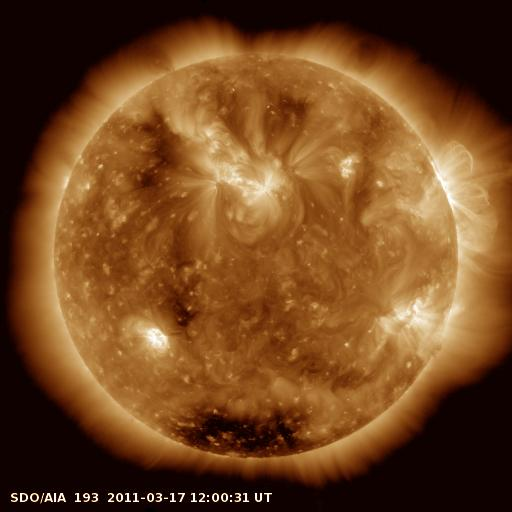coronal_hole: (165, 397, 322, 469)
